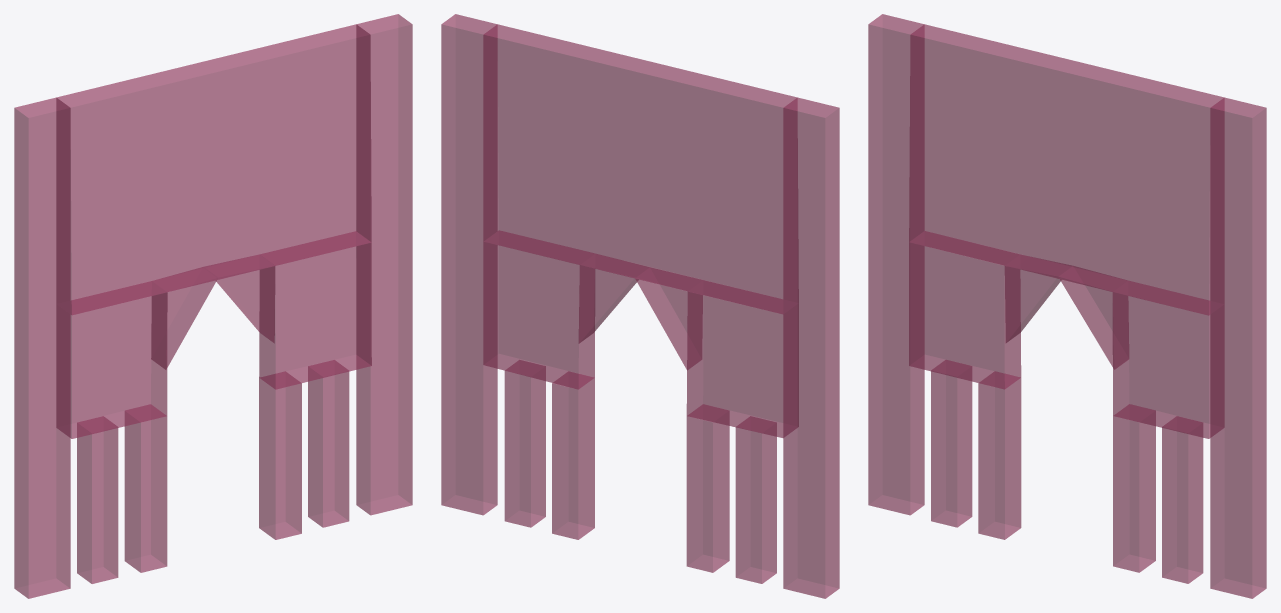
Rendered from SM_Bld_Wall_Arch_Large_01_Collision.fbx.
3 renders of one model, left to right at view 1: azimuth 30°, elevation 25°; view 2: azimuth 150°, elevation 25°; view 3: azimuth 330°, elevation 25°, orthographic.
Parts seen in each view (by area): view 1: SM_Bld_Wall_Arch_Large_01_Collision; view 2: SM_Bld_Wall_Arch_Large_01_Collision; view 3: SM_Bld_Wall_Arch_Large_01_Collision.
Boxes of the visible parts, x1=… form: SM_Bld_Wall_Arch_Large_01_Collision: x1=14, y1=14, x2=412, y2=598; SM_Bld_Wall_Arch_Large_01_Collision: x1=441, y1=14, x2=839, y2=598; SM_Bld_Wall_Arch_Large_01_Collision: x1=868, y1=14, x2=1266, y2=598.
Bounding box in the file's own units: 504 × 604 × 37.72.
